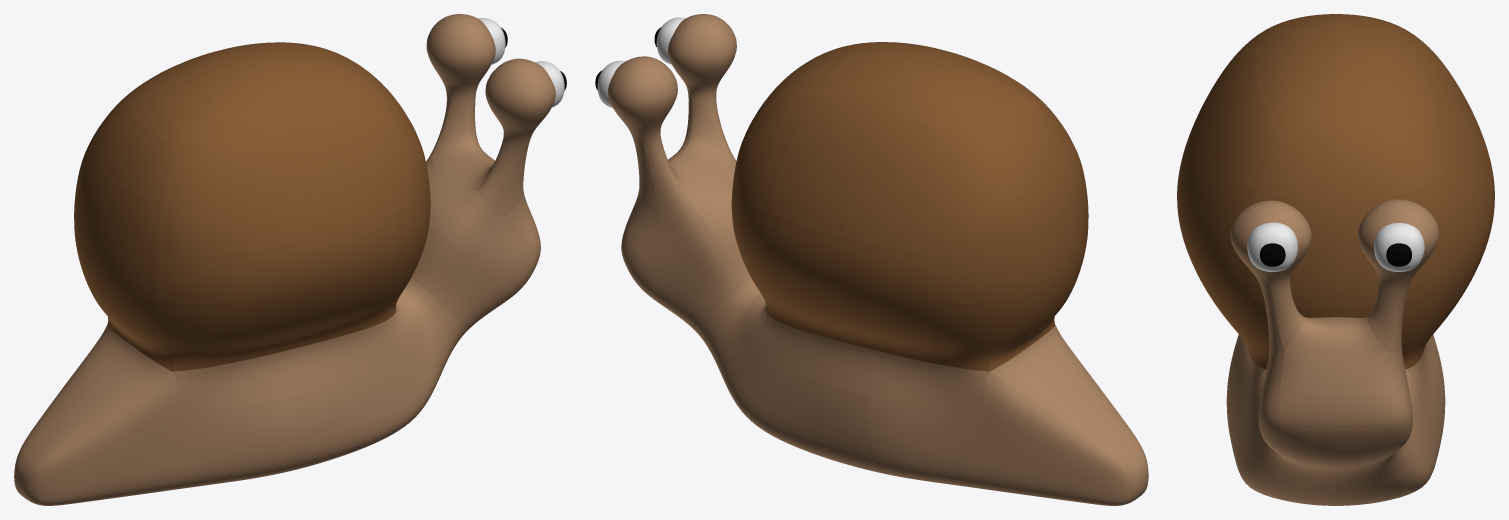
File: PdV_Model_Snail.glb
3 views of the same model, side by side, from view 1: azimuth 30°, elevation 25°; view 2: azimuth 150°, elevation 25°; view 3: azimuth 270°, elevation 25° (orthographic). The views are drawn at different scales.
Parts seen in each view (by area): view 1: Cube.033; view 2: Cube.033; view 3: Cube.033.
Part boxes in pixels (x1,y1,x2,y2): Cube.033: [14, 14, 566, 505]; Cube.033: [595, 14, 1148, 505]; Cube.033: [1177, 14, 1494, 505].
Size of the model in its own units: 2.71 by 1.95 by 1.35.
